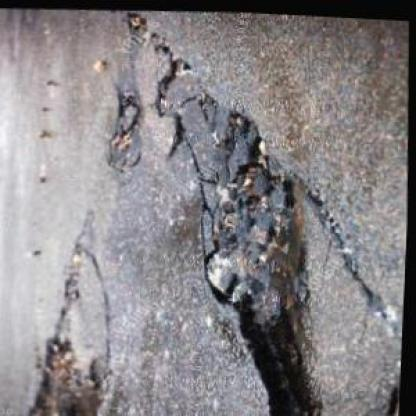pothole: (104, 4, 415, 416), (24, 327, 116, 415), (102, 83, 148, 172)
